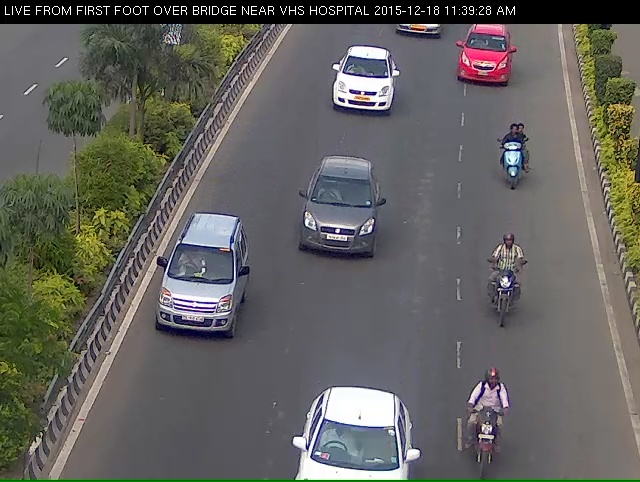Car: (151, 231, 238, 357), (292, 168, 384, 278), (289, 409, 417, 481), (326, 54, 403, 119), (453, 30, 513, 99)
Person: (459, 403, 519, 477), (482, 255, 525, 347), (496, 128, 536, 206)
